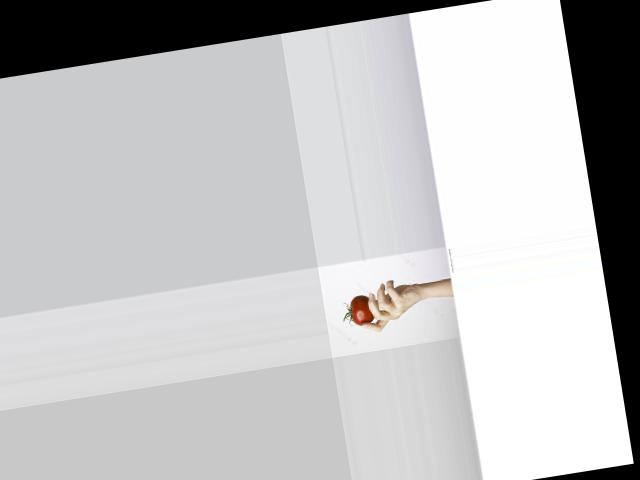tomato: (339, 293, 374, 327)
